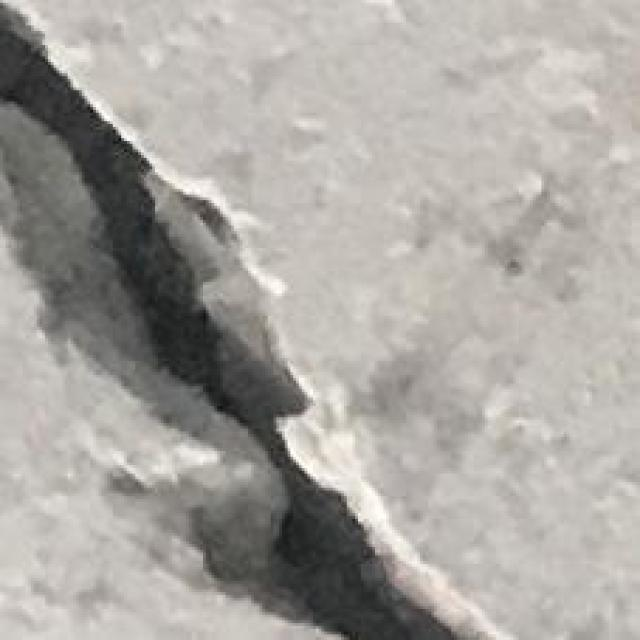Crack: (2, 11, 490, 640)
